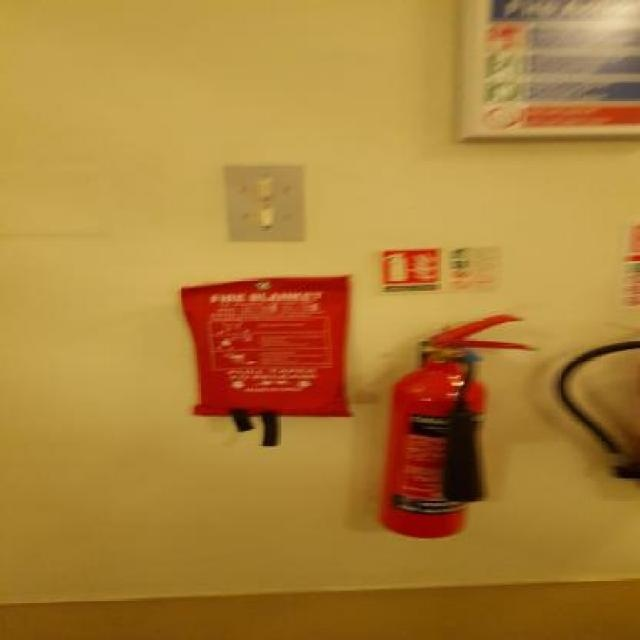fire extinguisher: (382, 313, 542, 541)
